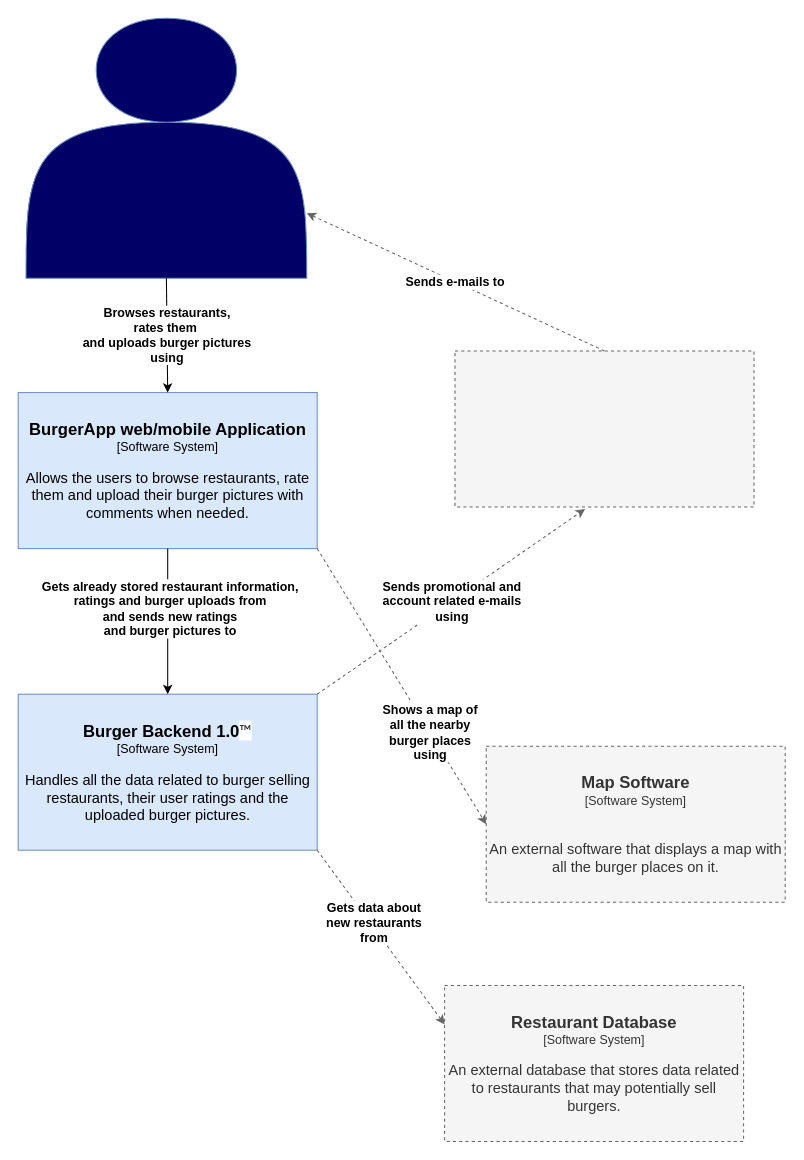
Image size: 804x1160. Some labels were removed from this diagram. Each missing label, with the centre of its shape:
"Average BurgerApp user [Person] A user of the application with personal account." goes at point (166, 147).
"E-mail System [Software System] A system that sends e-mails." goes at point (604, 428).
